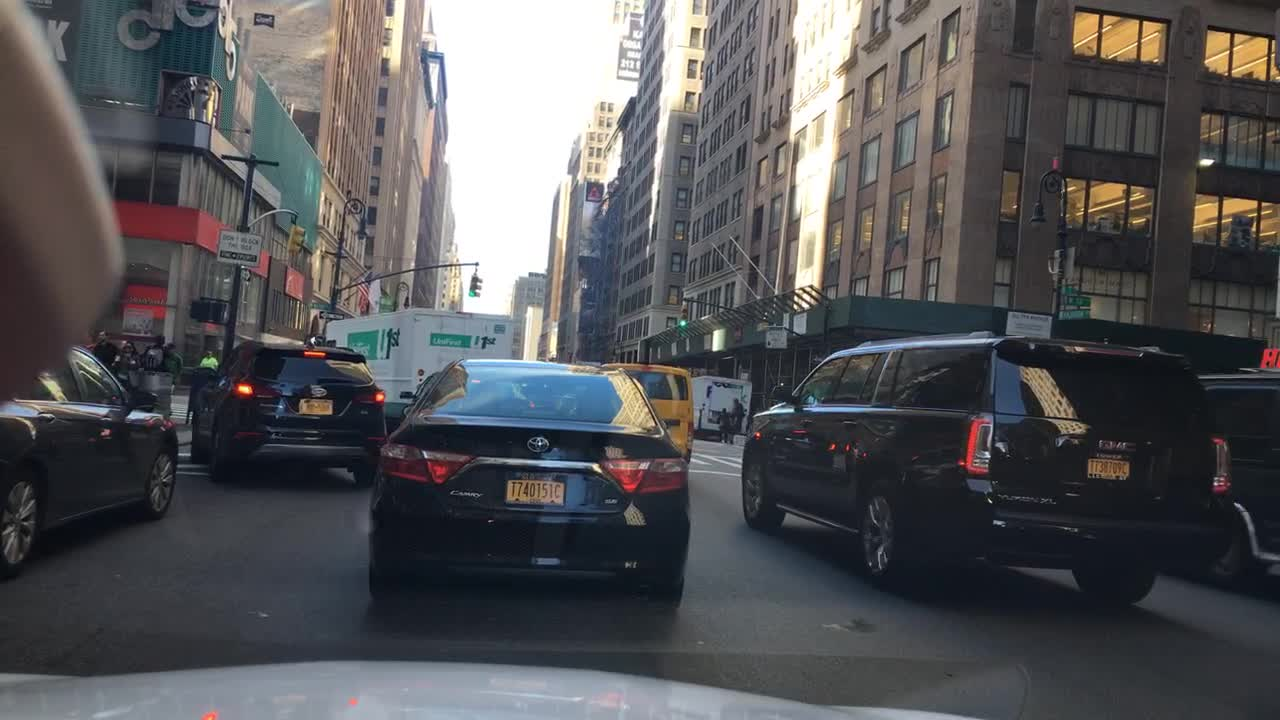car: (739, 332, 1229, 608), (366, 359, 691, 611), (0, 344, 180, 578), (191, 342, 387, 491), (1179, 359, 1278, 591), (594, 362, 692, 468)
person: (185, 365, 215, 425), (89, 327, 117, 380), (158, 342, 182, 392), (111, 338, 138, 377), (140, 332, 164, 374), (715, 405, 728, 444), (733, 395, 745, 437), (198, 348, 219, 371), (727, 410, 736, 443)
traffic light: (189, 299, 224, 322), (287, 224, 302, 254), (674, 305, 688, 329), (472, 272, 483, 299), (468, 274, 475, 296)
traffic sign: (216, 227, 263, 266), (763, 326, 785, 347), (1056, 307, 1088, 320), (1059, 293, 1092, 305), (790, 313, 808, 332), (317, 310, 342, 322), (1058, 281, 1080, 290), (305, 302, 334, 308)
truck: (321, 310, 511, 434), (686, 374, 748, 444)
